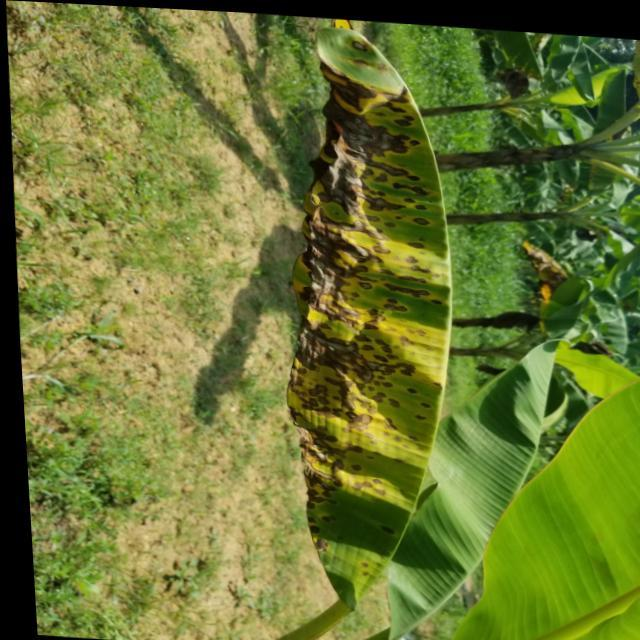Early_rust: (253, 0, 465, 591), (501, 186, 586, 345)
